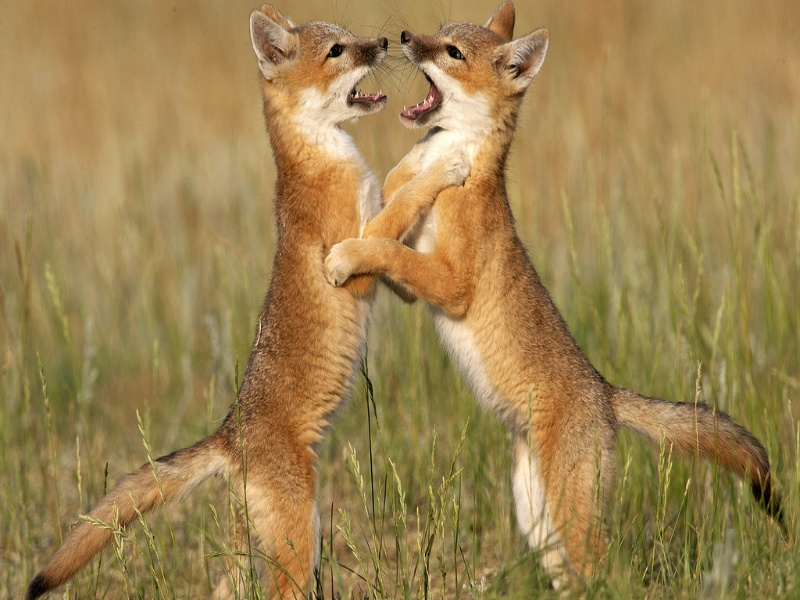fox: (387, 16, 788, 591), (29, 5, 393, 598)
